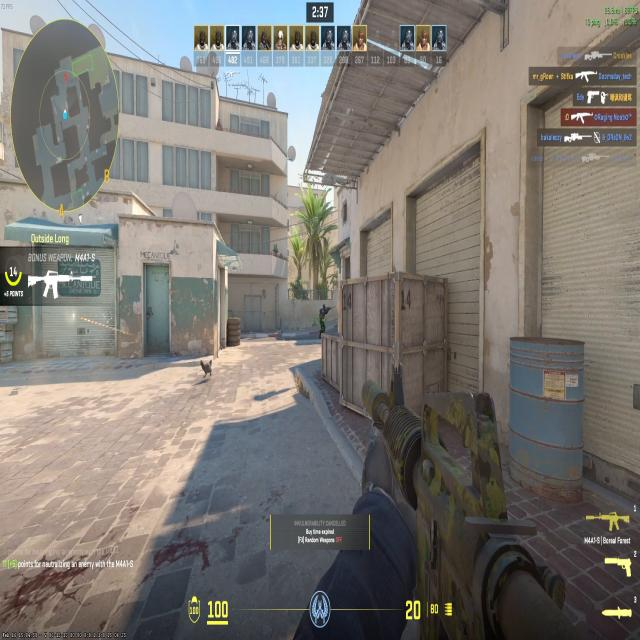player: (316, 298, 331, 342)
